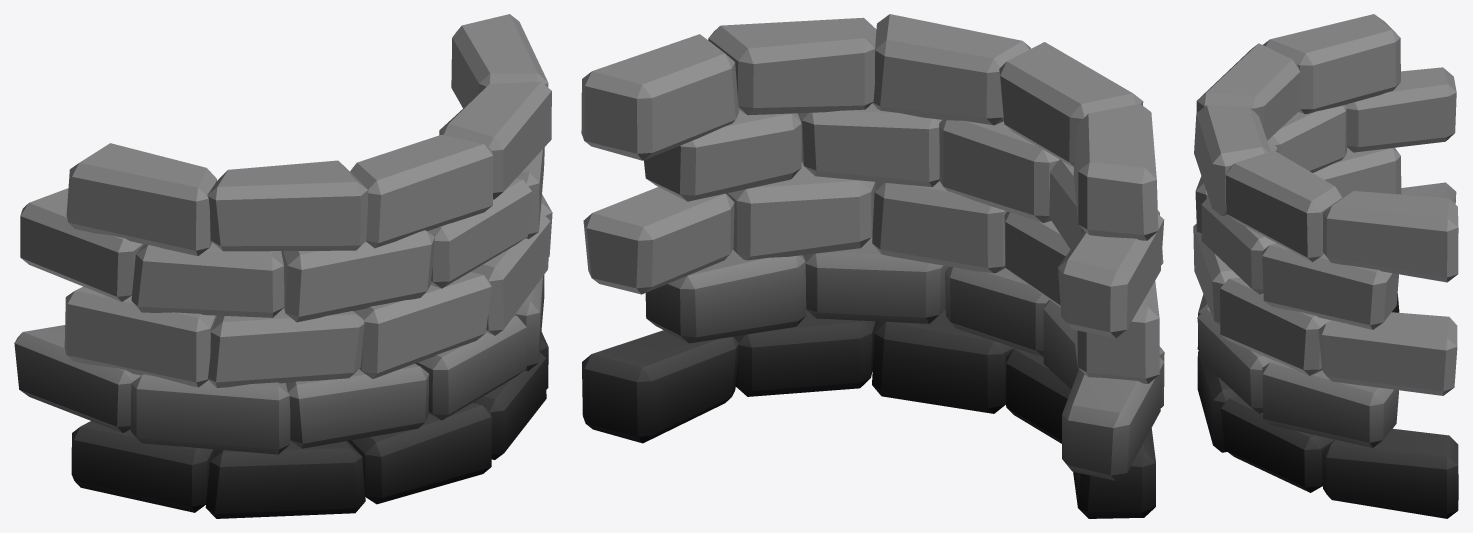
Rendered from BrickWall2x1_01_T180_Mid.fbx.
3 renders of one model, left to right at view 1: azimuth 30°, elevation 25°; view 2: azimuth 150°, elevation 25°; view 3: azimuth 270°, elevation 25°, orthographic. The views are drawn at different scales.
Visible parts, largest first — view 1: BrickWall2x1_01_T180_Mid; view 2: BrickWall2x1_01_T180_Mid; view 3: BrickWall2x1_01_T180_Mid.
Boxes of the visible parts, left/top/right/bottom form: BrickWall2x1_01_T180_Mid: left=14, top=14, right=552, bottom=518; BrickWall2x1_01_T180_Mid: left=581, top=14, right=1164, bottom=518; BrickWall2x1_01_T180_Mid: left=1193, top=14, right=1458, bottom=518.
Size of the model in its own units: 162 by 101 by 80.92.
